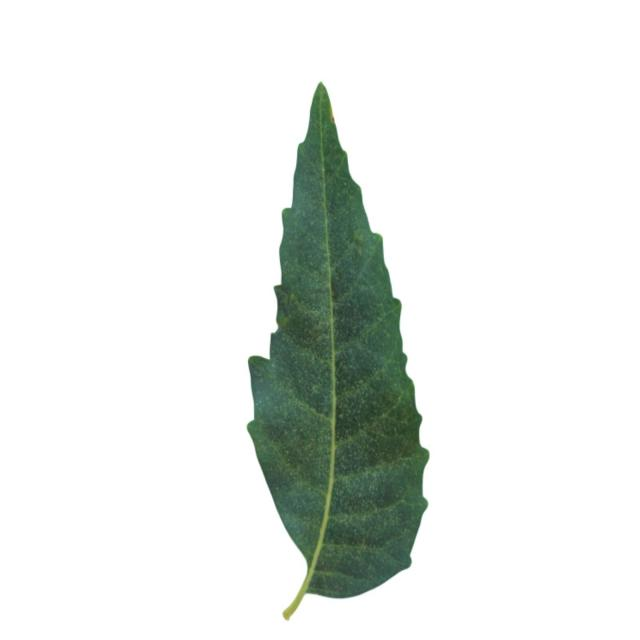Medicinal-Neem: (246, 79, 428, 618)
